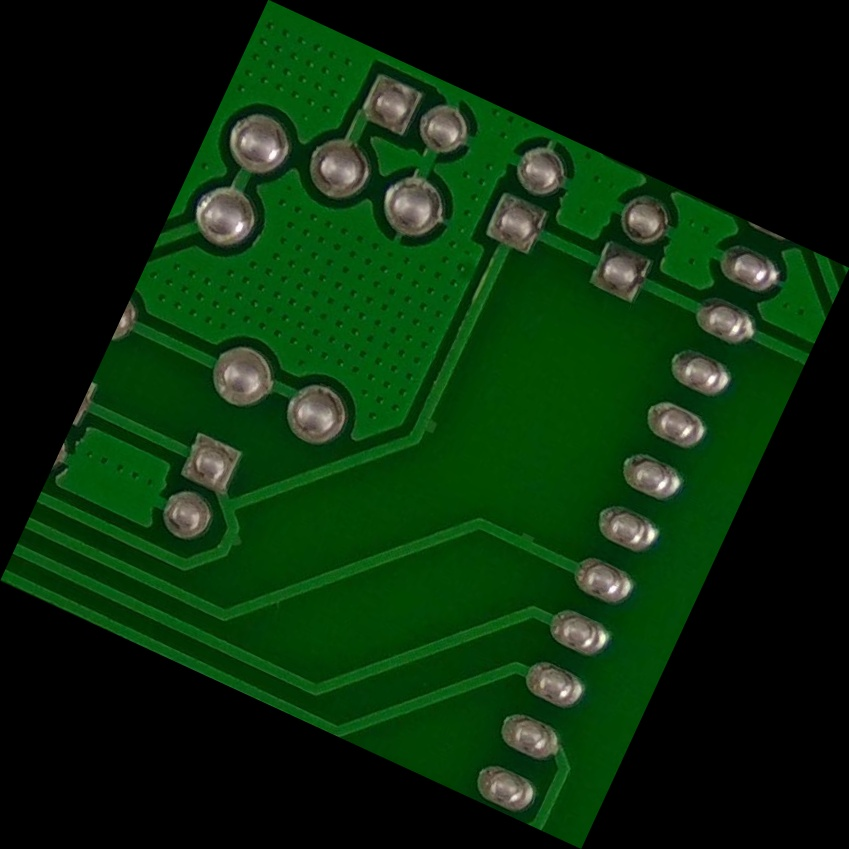spur: (402, 401, 447, 448)
